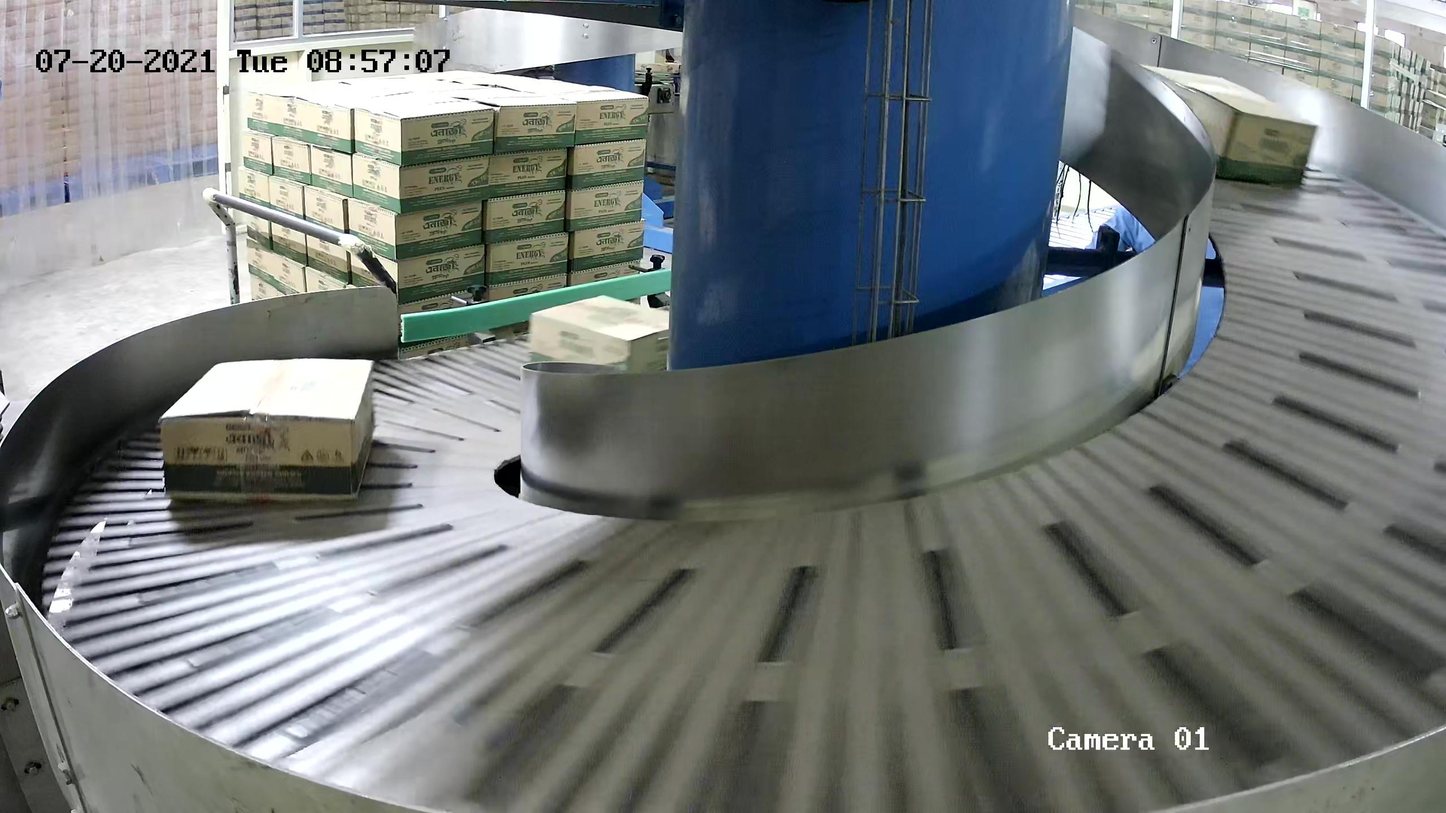Box: (158, 357, 377, 504), (1113, 61, 1320, 188), (528, 294, 697, 396)
